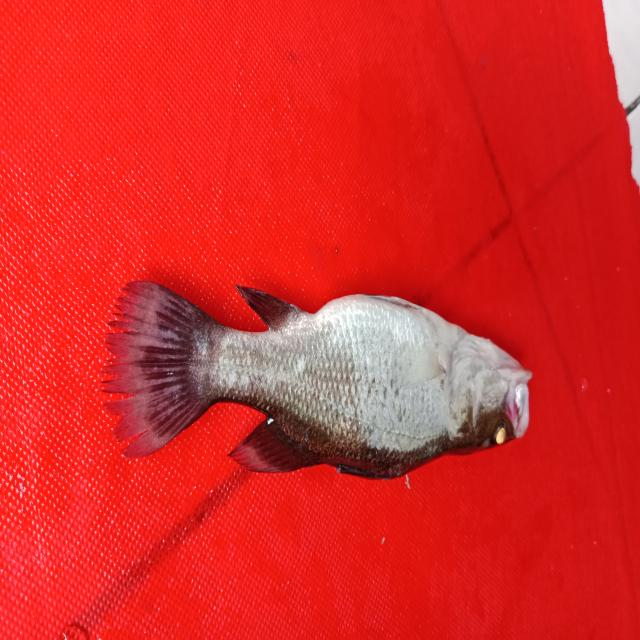ikan: (93, 212, 540, 512)
